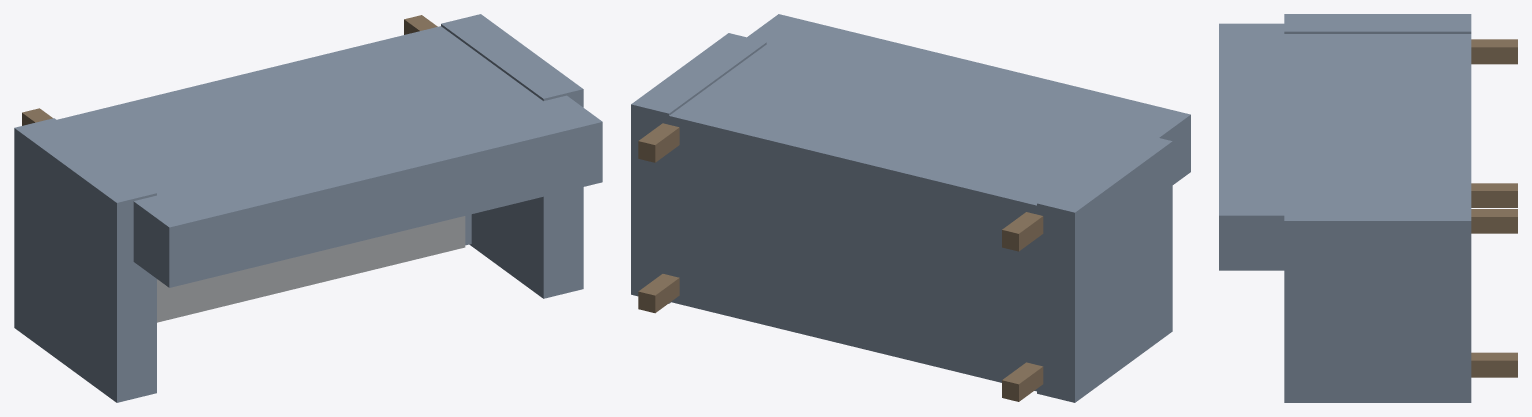
File: Sofa.glb
The picture shows the model from 3 angles, left to right: view 1: azimuth 30°, elevation 25°; view 2: azimuth 150°, elevation 25°; view 3: azimuth 270°, elevation 25°; orthographic projection. The views are drawn at different scales.
Parts seen in each view (by area): view 1: FTF_Interior_Sofa_ThreeSeat_v1_Back, FTF_Interior_Sofa_ThreeSeat_v1_ArmL, FTF_Interior_Sofa_ThreeSeat_v1_ArmR, FTF_Interior_Sofa_ThreeSeat_v1_SeatBase, FTF_Interior_Sofa_ThreeSeat_v1_SeatCushion1, FTF_Interior_Sofa_ThreeSeat_v1_SeatCushion2, FTF_Interior_Sofa_ThreeSeat_v1_SeatCushion0; view 2: FTF_Interior_Sofa_ThreeSeat_v1_SeatBase, FTF_Interior_Sofa_ThreeSeat_v1_Back, FTF_Interior_Sofa_ThreeSeat_v1_ArmL, FTF_Interior_Sofa_ThreeSeat_v1_ArmR, FTF_Interior_Sofa_ThreeSeat_v1_Leg1, FTF_Interior_Sofa_ThreeSeat_v1_Leg2, FTF_Interior_Sofa_ThreeSeat_v1_Leg3, FTF_Interior_Sofa_ThreeSeat_v1_Leg0; view 3: FTF_Interior_Sofa_ThreeSeat_v1_Back, FTF_Interior_Sofa_ThreeSeat_v1_ArmR, FTF_Interior_Sofa_ThreeSeat_v1_SeatBase, FTF_Interior_Sofa_ThreeSeat_v1_ArmL, FTF_Interior_Sofa_ThreeSeat_v1_Leg1, FTF_Interior_Sofa_ThreeSeat_v1_Leg2, FTF_Interior_Sofa_ThreeSeat_v1_Leg0, FTF_Interior_Sofa_ThreeSeat_v1_Leg3.
Part boxes in pixels (bbox=[...]): FTF_Interior_Sofa_ThreeSeat_v1_Back: bbox=[82, 45, 602, 287]; FTF_Interior_Sofa_ThreeSeat_v1_ArmL: bbox=[14, 118, 156, 402]; FTF_Interior_Sofa_ThreeSeat_v1_ArmR: bbox=[441, 14, 583, 298]; FTF_Interior_Sofa_ThreeSeat_v1_SeatBase: bbox=[57, 26, 471, 245]; FTF_Interior_Sofa_ThreeSeat_v1_SeatCushion1: bbox=[225, 243, 354, 305]; FTF_Interior_Sofa_ThreeSeat_v1_SeatCushion2: bbox=[336, 216, 465, 277]; FTF_Interior_Sofa_ThreeSeat_v1_SeatCushion0: bbox=[157, 271, 242, 322]; FTF_Interior_Sofa_ThreeSeat_v1_SeatBase: bbox=[647, 94, 1063, 396]; FTF_Interior_Sofa_ThreeSeat_v1_Back: bbox=[698, 14, 1190, 186]; FTF_Interior_Sofa_ThreeSeat_v1_ArmL: bbox=[1037, 132, 1172, 402]; FTF_Interior_Sofa_ThreeSeat_v1_ArmR: bbox=[631, 33, 766, 303]; FTF_Interior_Sofa_ThreeSeat_v1_Leg1: bbox=[638, 274, 679, 313]; FTF_Interior_Sofa_ThreeSeat_v1_Leg2: bbox=[1002, 212, 1043, 251]; FTF_Interior_Sofa_ThreeSeat_v1_Leg3: bbox=[638, 123, 679, 162]; FTF_Interior_Sofa_ThreeSeat_v1_Leg0: bbox=[1002, 362, 1043, 401]; FTF_Interior_Sofa_ThreeSeat_v1_Back: bbox=[1219, 23, 1424, 270]; FTF_Interior_Sofa_ThreeSeat_v1_ArmR: bbox=[1284, 203, 1471, 402]; FTF_Interior_Sofa_ThreeSeat_v1_SeatBase: bbox=[1415, 34, 1471, 203]; FTF_Interior_Sofa_ThreeSeat_v1_ArmL: bbox=[1284, 14, 1471, 33]; FTF_Interior_Sofa_ThreeSeat_v1_Leg1: bbox=[1471, 352, 1517, 377]; FTF_Interior_Sofa_ThreeSeat_v1_Leg2: bbox=[1471, 39, 1517, 64]; FTF_Interior_Sofa_ThreeSeat_v1_Leg0: bbox=[1471, 183, 1517, 207]; FTF_Interior_Sofa_ThreeSeat_v1_Leg3: bbox=[1471, 209, 1517, 233].
Size of the model in its own units: 2.1 by 0.86 by 1.28.
